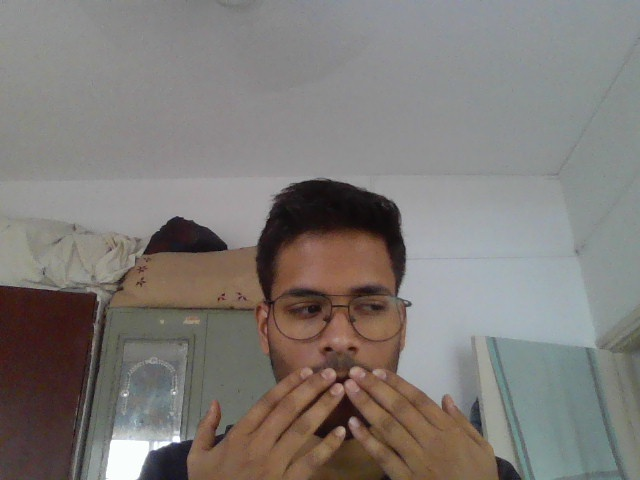thankyou: (172, 357, 518, 480)
